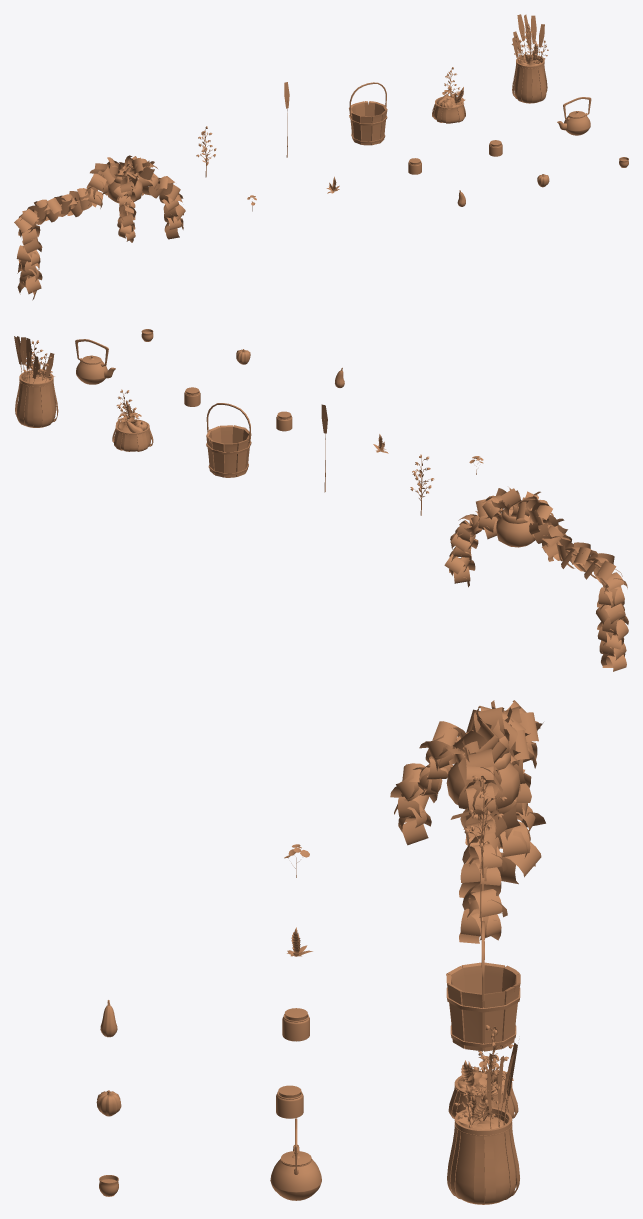
The model's file is cmc_shaman_assets_full_posed_low.fbx.
3 renders of one model, top to bottom at view 1: azimuth 30°, elevation 25°; view 2: azimuth 150°, elevation 25°; view 3: azimuth 270°, elevation 25°, orthographic. The views are drawn at different scales.
Parts seen in each view (by area): view 1: plant_vines_geo, bucket_geo_low, basket_tall_geo_low, basket_small_geo_low, teapot_geo_low; view 2: plant_vines_geo, bucket_geo_low, basket_tall_geo_low, overgrown_plant_geo_low, basket_small_geo_low, teapot_geo_low; view 3: plant_vines_geo, bucket_geo_low, basket_tall_geo_low, teapot_geo_low, overgrown_plant_geo_low, basket_small_geo_low.
Part boxes in pixels (x1,y1,x2,y2): plant_vines_geo: (14,155,185,300); bucket_geo_low: (349,101,387,145); basket_tall_geo_low: (512,54,547,103); basket_small_geo_low: (432,96,465,123); teapot_geo_low: (557,111,590,135); plant_vines_geo: (444,487,628,671); bucket_geo_low: (206,425,251,477); basket_tall_geo_low: (15,370,58,427); overgrown_plant_geo_low: (496,509,535,547); basket_small_geo_low: (112,419,153,451); teapot_geo_low: (76,355,115,384); plant_vines_geo: (390,700,545,943); bucket_geo_low: (446,962,520,1051); basket_tall_geo_low: (447,1107,519,1204); teapot_geo_low: (270,1144,321,1200); overgrown_plant_geo_low: (446,750,520,809); basket_small_geo_low: (448,1071,518,1118).
Size of the model in its own units: 6.45 by 1.91 by 2.4.
